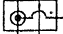Single Phase Tap-Off Unit: (1, 0, 60, 34)
